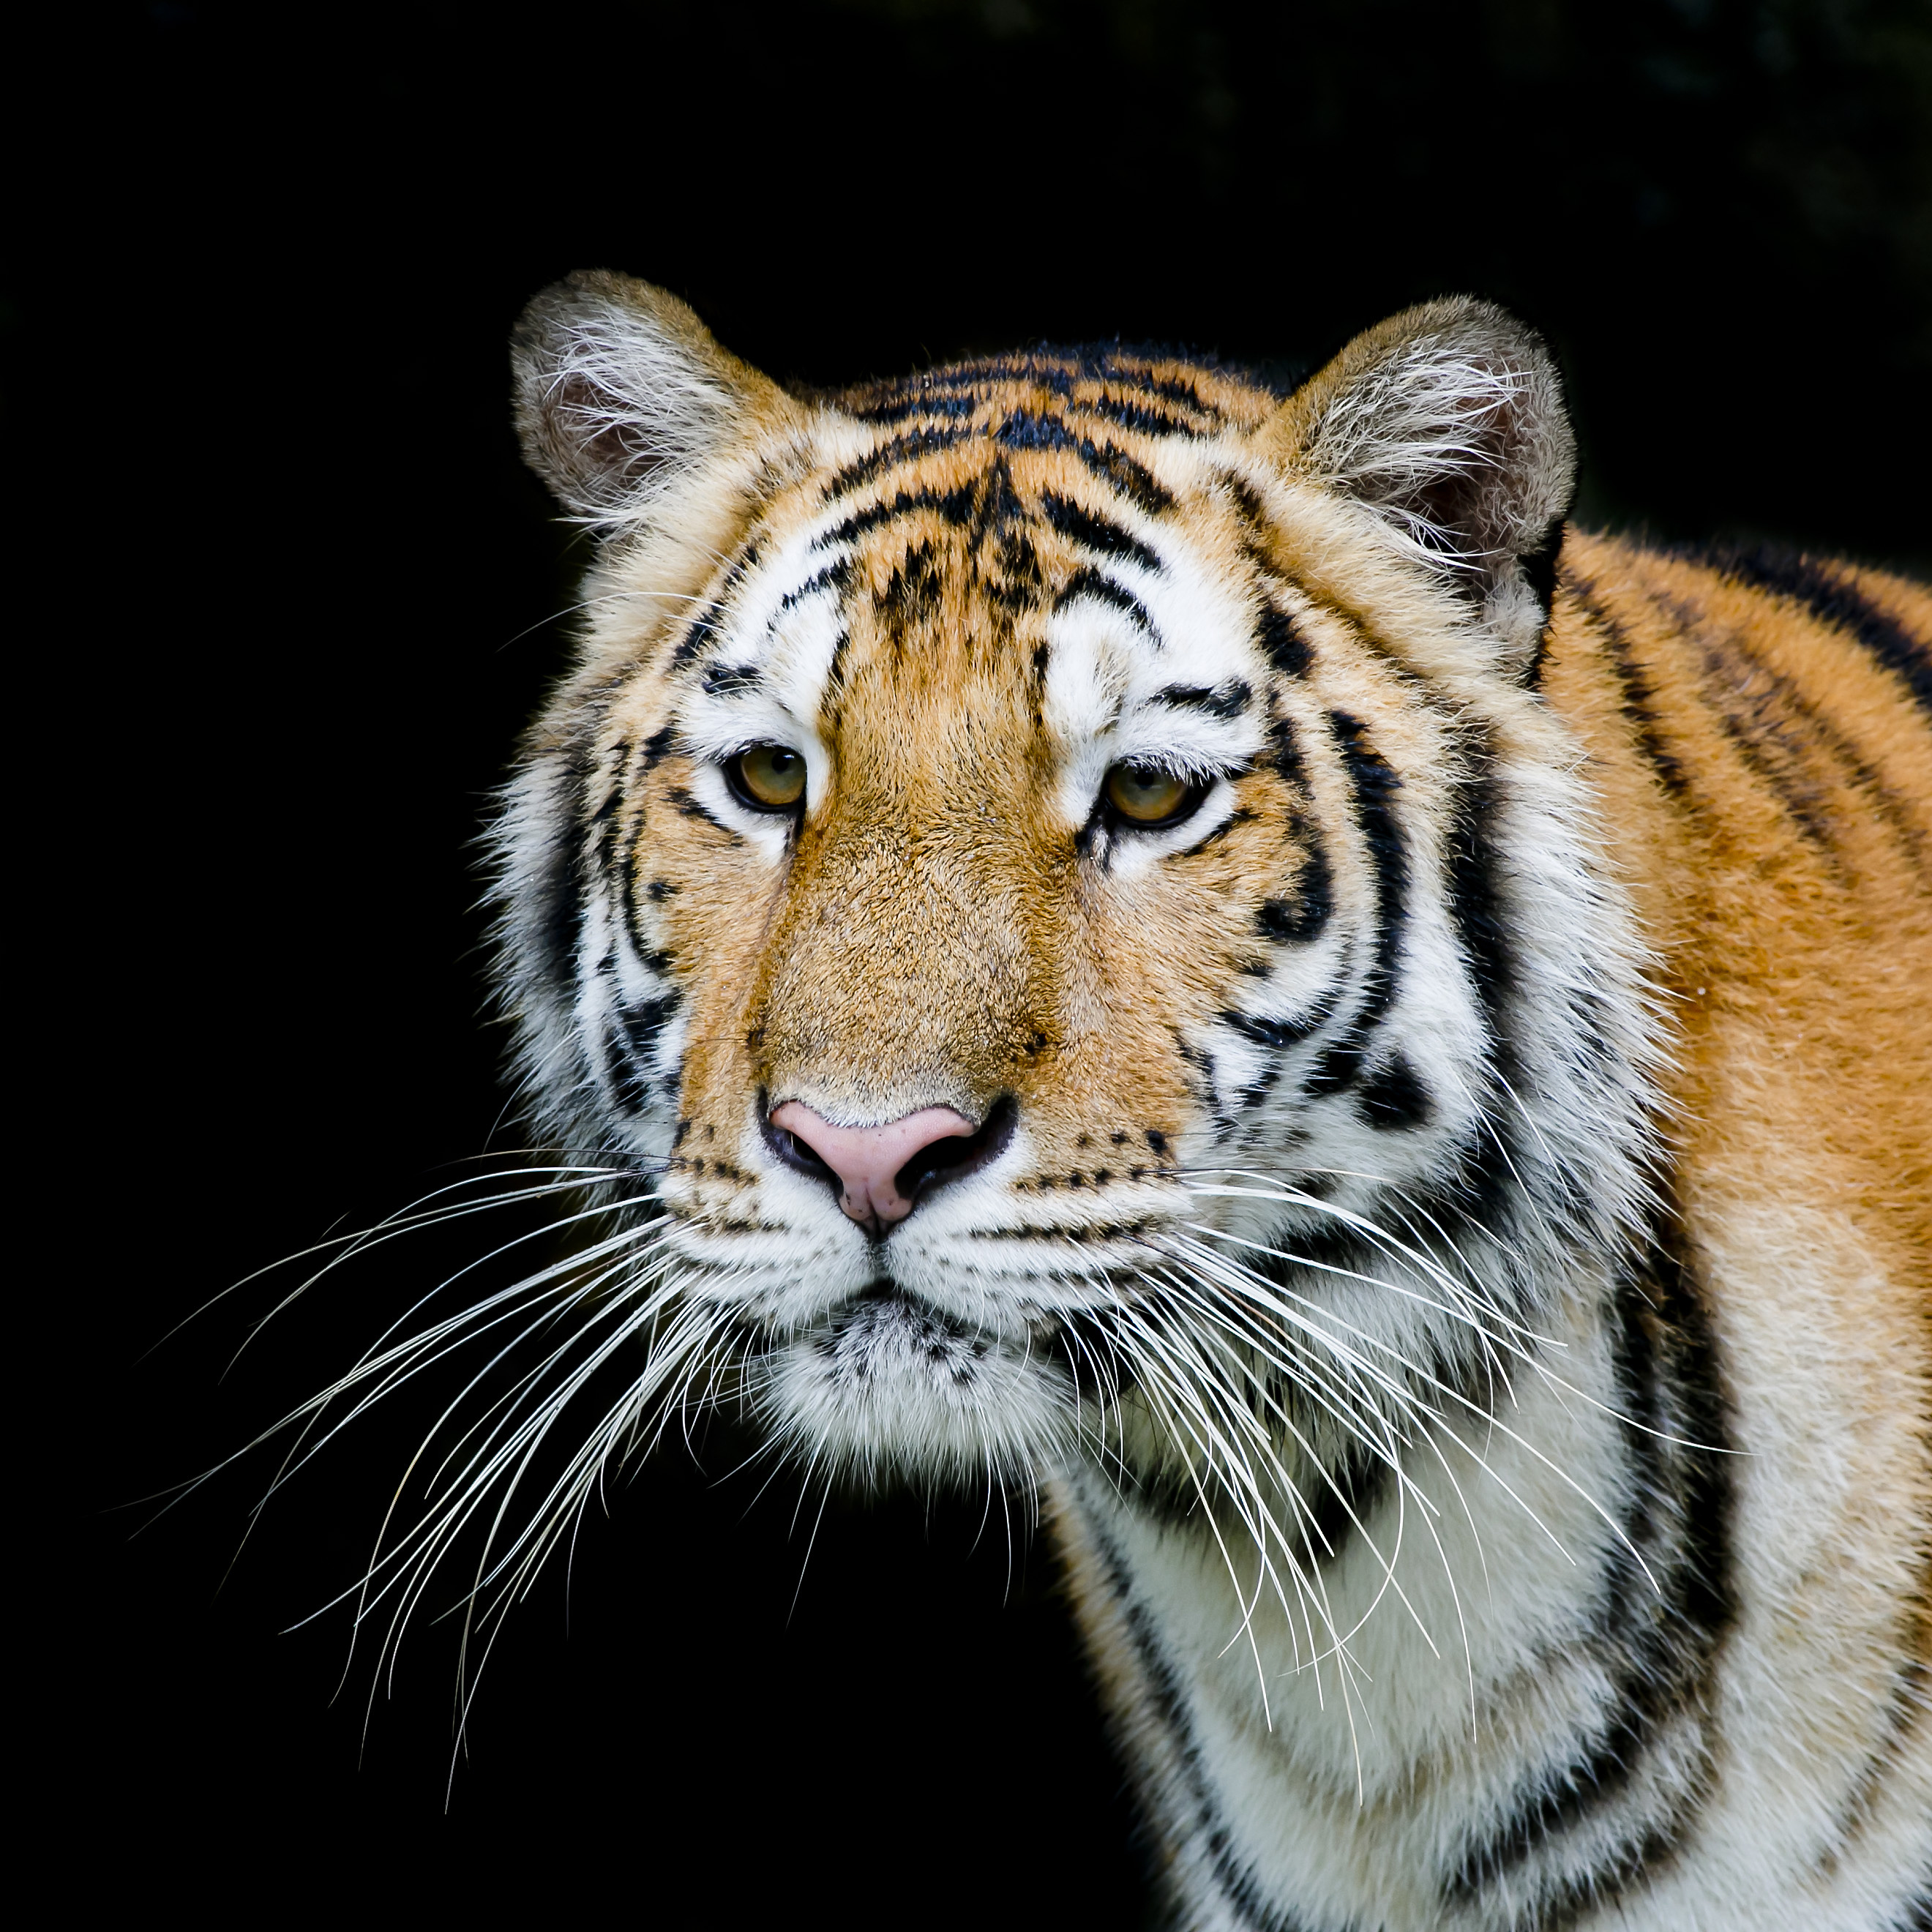tiger: (471, 255, 1909, 1881)
